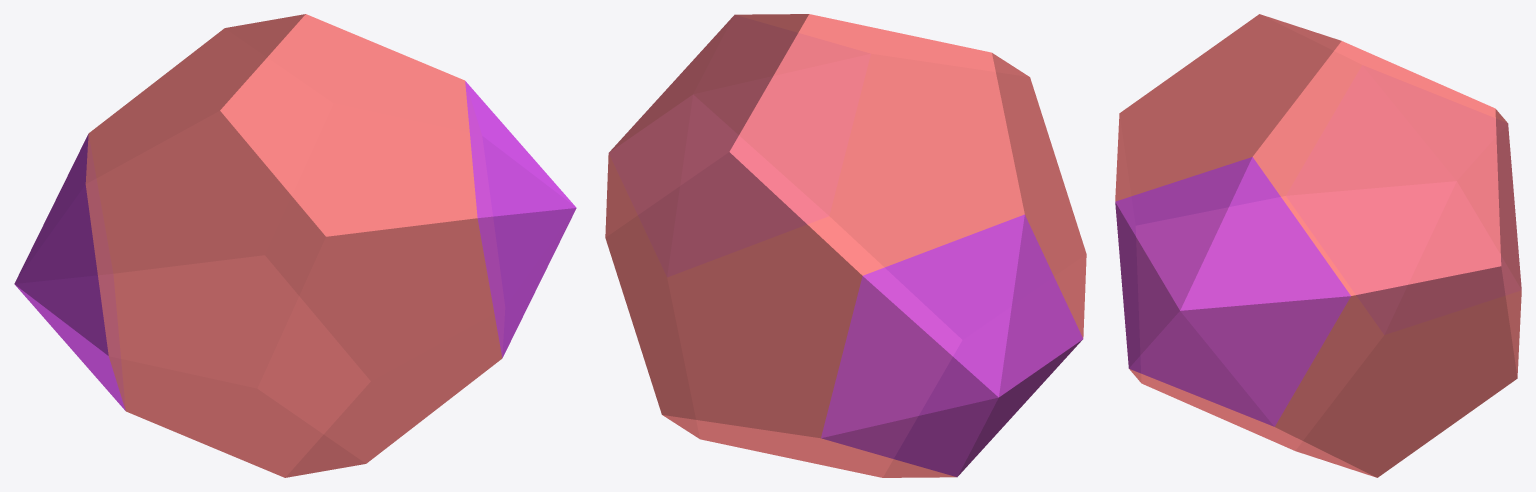
File: j59_parabiaugmented_dodecahedron.obj
3 views of the same model, side by side, from view 1: azimuth 30°, elevation 25°; view 2: azimuth 150°, elevation 25°; view 3: azimuth 270°, elevation 25° (orthographic). The views are drawn at different scales.
Size of the model in its own units: 1.98 by 1.95 by 1.66.
